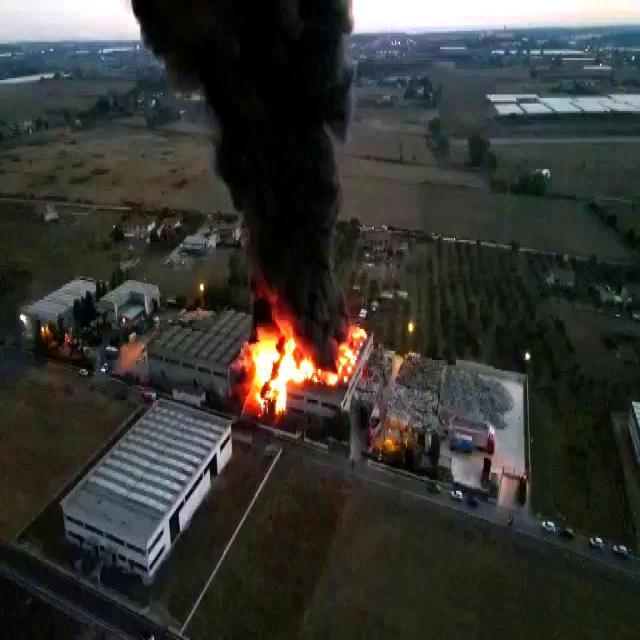Fire: (234, 324, 312, 411), (316, 320, 376, 390)
Smoke: (137, 0, 365, 329)
